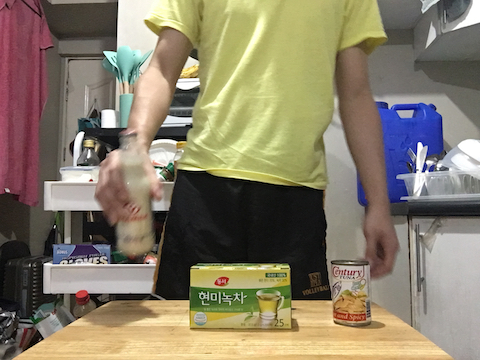bottle: (110, 125, 159, 261)
box: (184, 260, 299, 334)
can: (330, 255, 373, 330)
grab: (92, 145, 133, 228)
